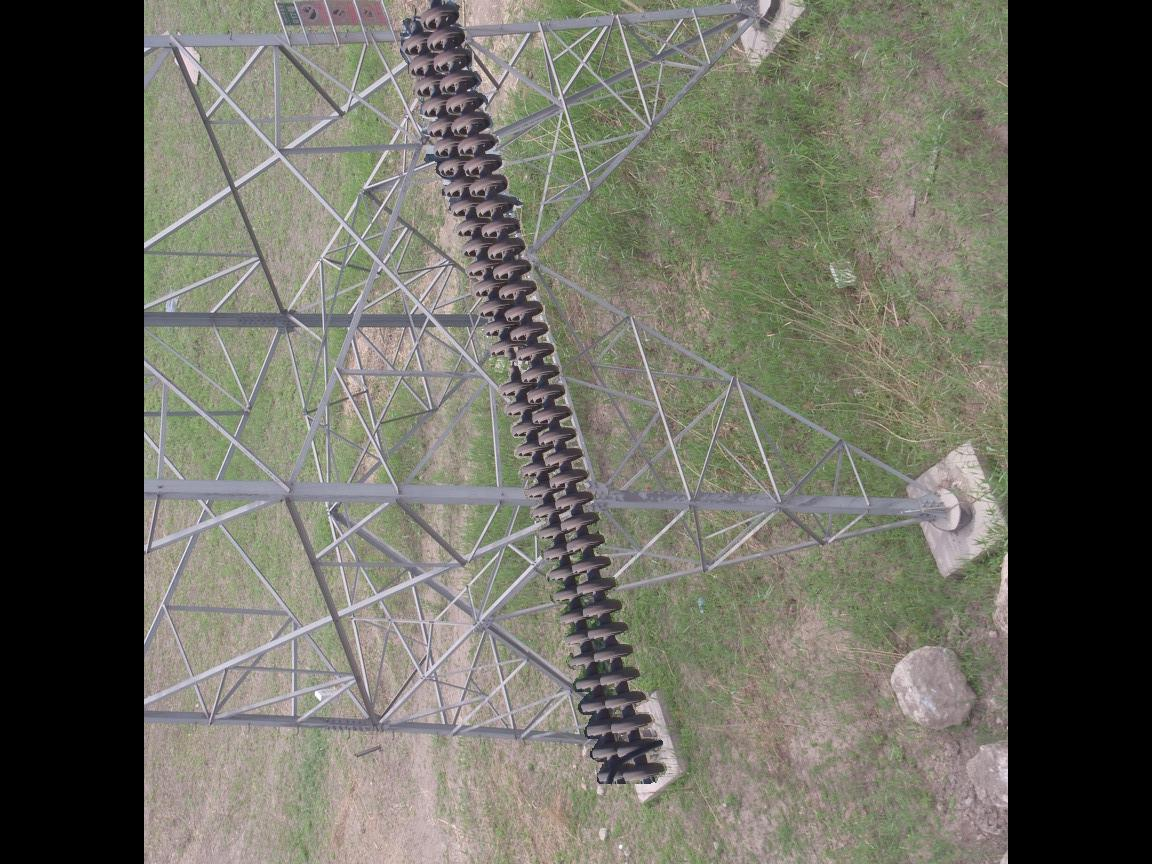insulator: (396, 1, 667, 792)
insulator_stringdrop: (487, 337, 533, 402)
